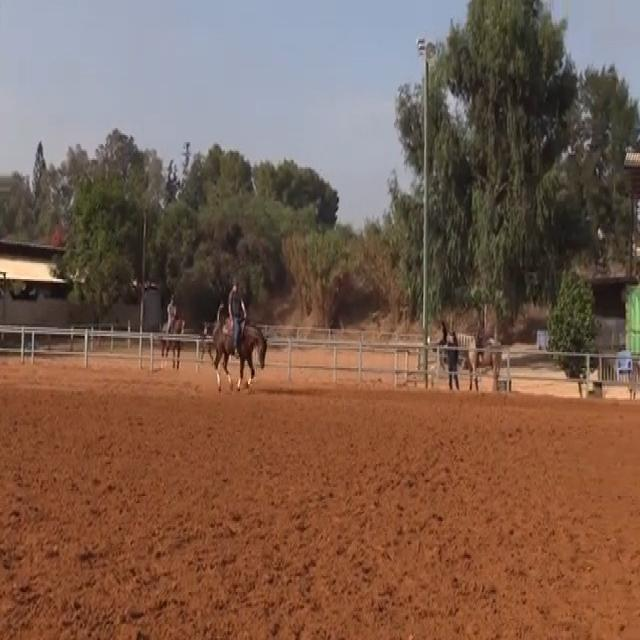horse: (207, 307, 268, 393)
